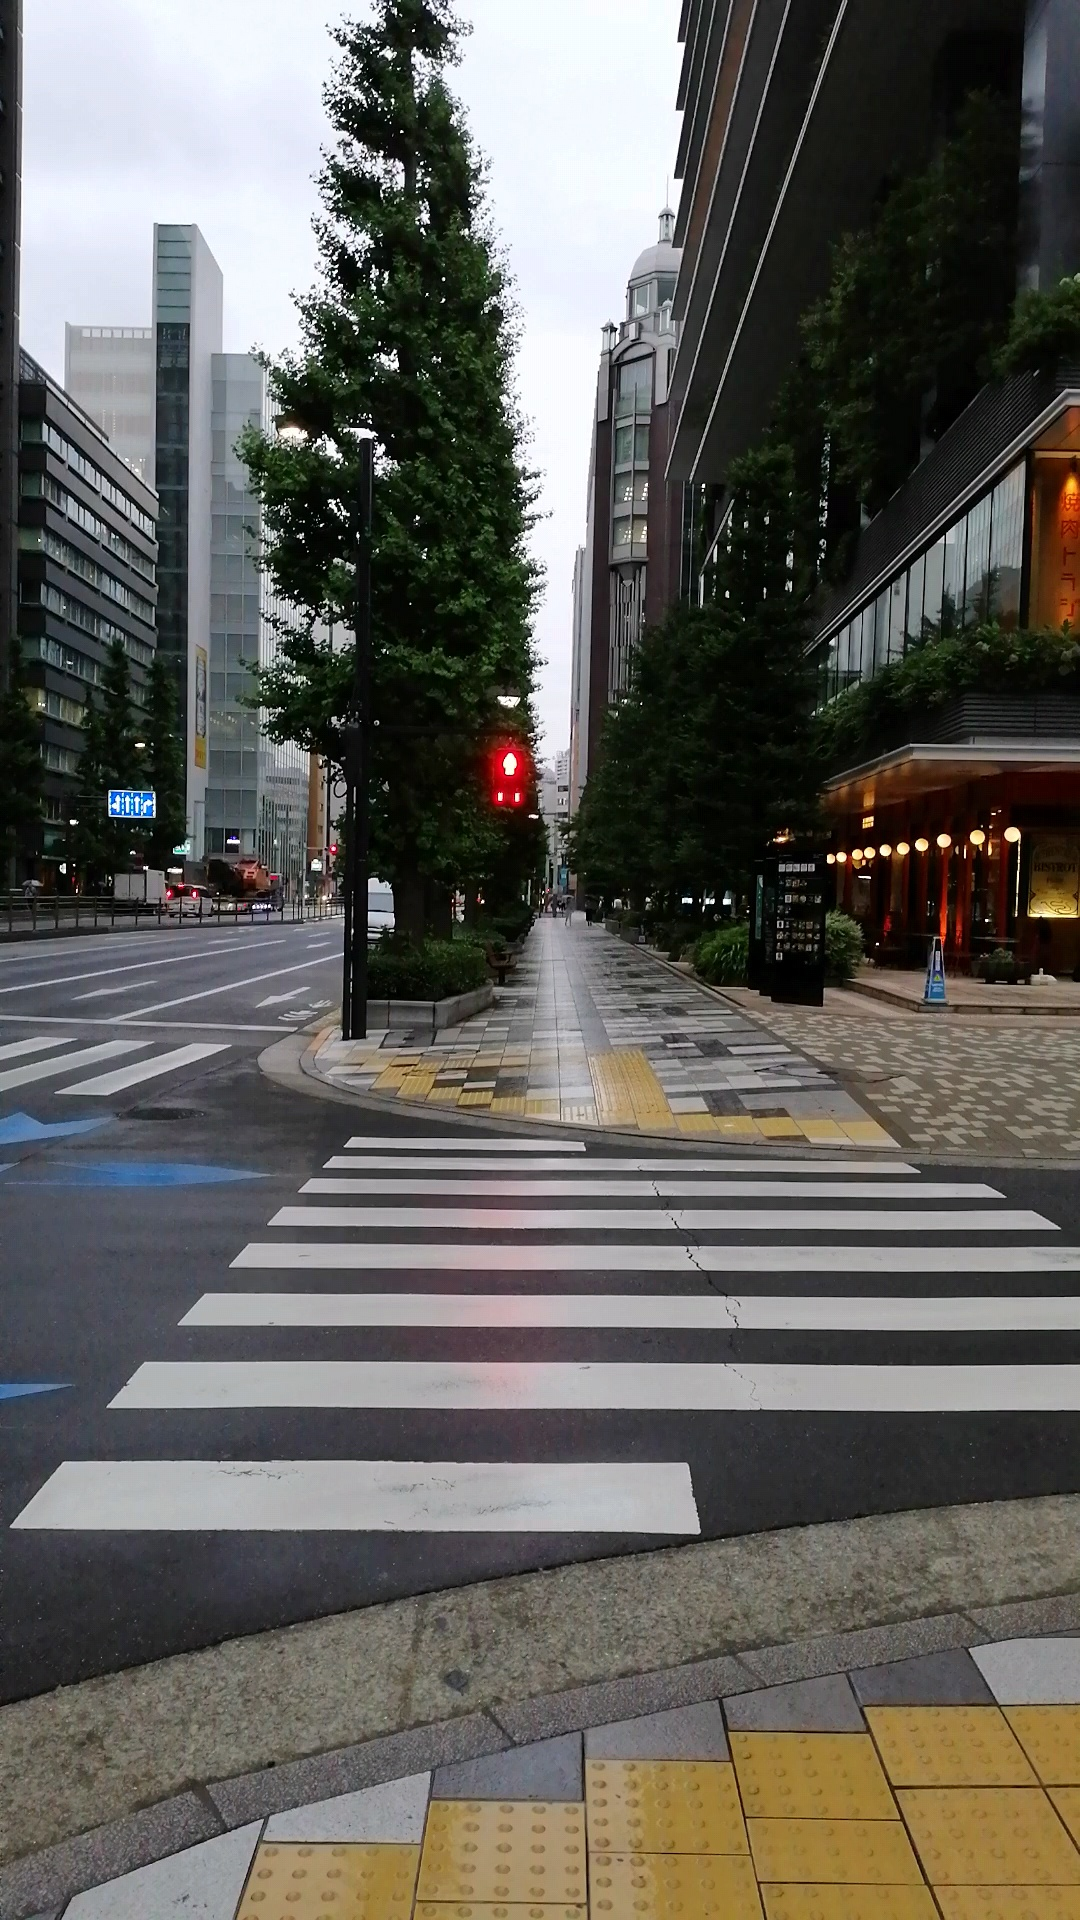red: (488, 741, 527, 811)
